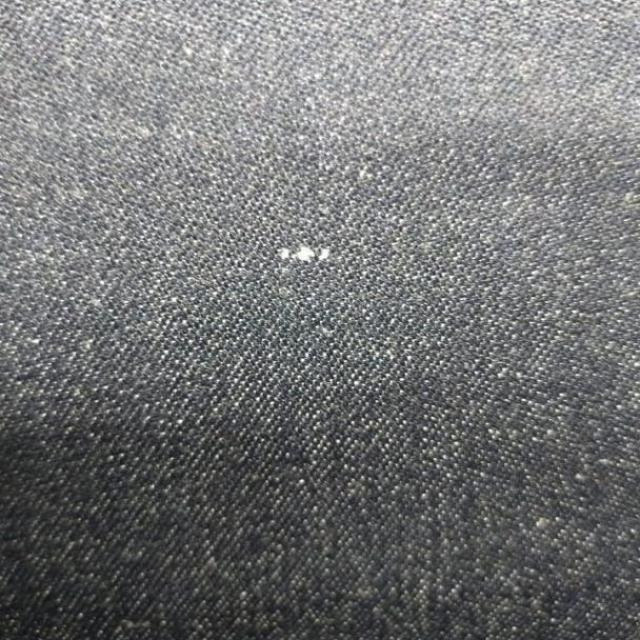Knot: (278, 245, 331, 263)
